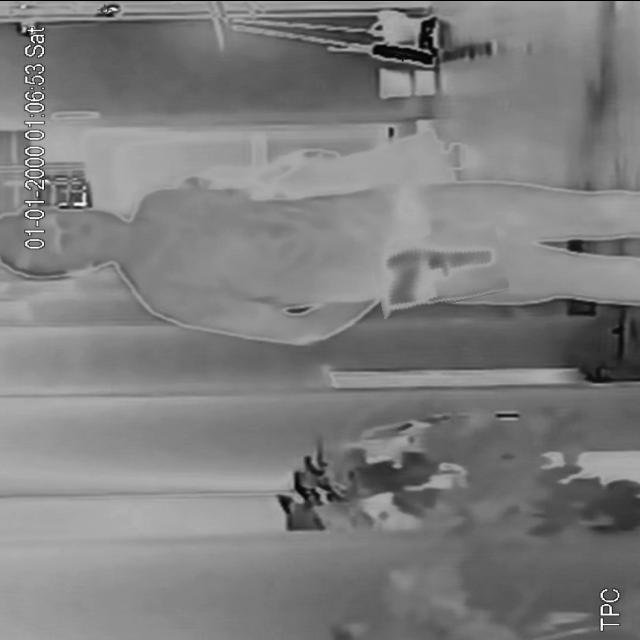Weapon: (371, 226, 506, 312)
